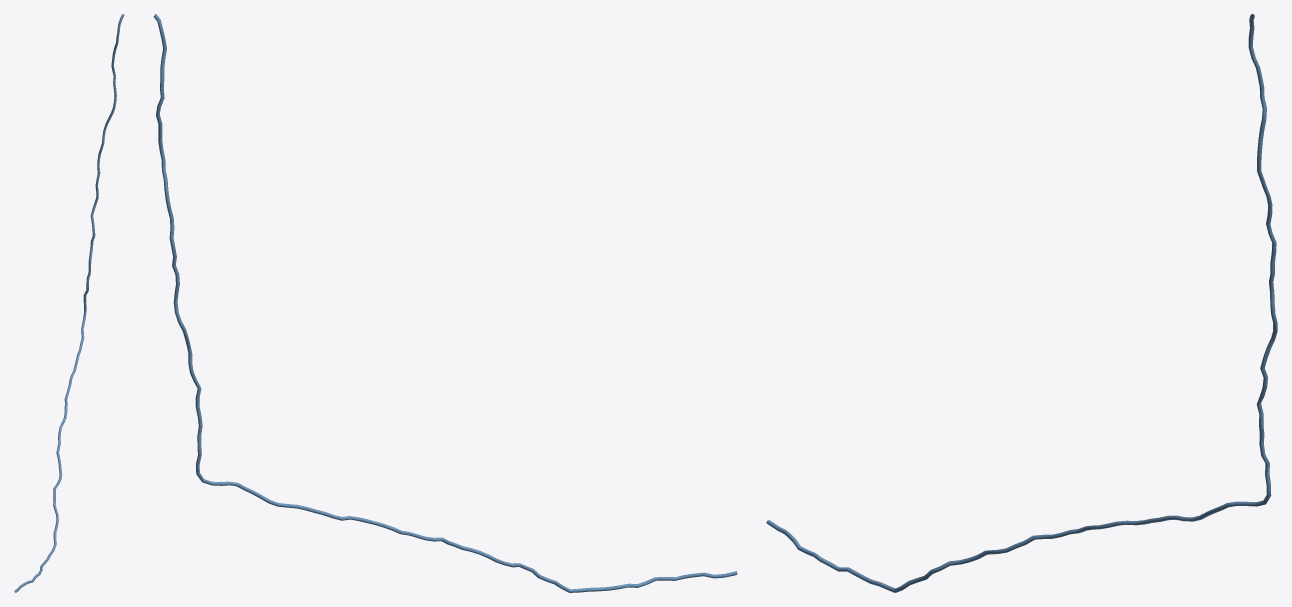
File: sweep164.fbx
The picture shows the model from 3 angles, left to right: view 1: azimuth 30°, elevation 25°; view 2: azimuth 150°, elevation 25°; view 3: azimuth 270°, elevation 25°; orthographic projection. The views are drawn at different scales.
Parts seen in each view (by area): view 1: sweep164; view 2: sweep164; view 3: sweep164.
Boxes of the visible parts, x1,y1,x2,y2 form: sweep164: [14, 14, 124, 592]; sweep164: [153, 14, 737, 592]; sweep164: [766, 14, 1277, 592].
Size of the model in its own units: 2.18 by 3.52 by 2.24.
